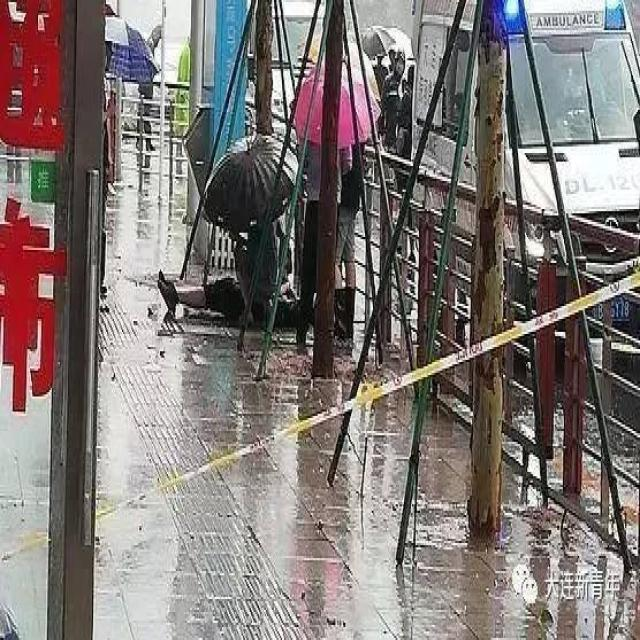fall: (156, 267, 306, 336), (296, 115, 333, 338), (329, 138, 362, 341), (234, 212, 280, 327)
